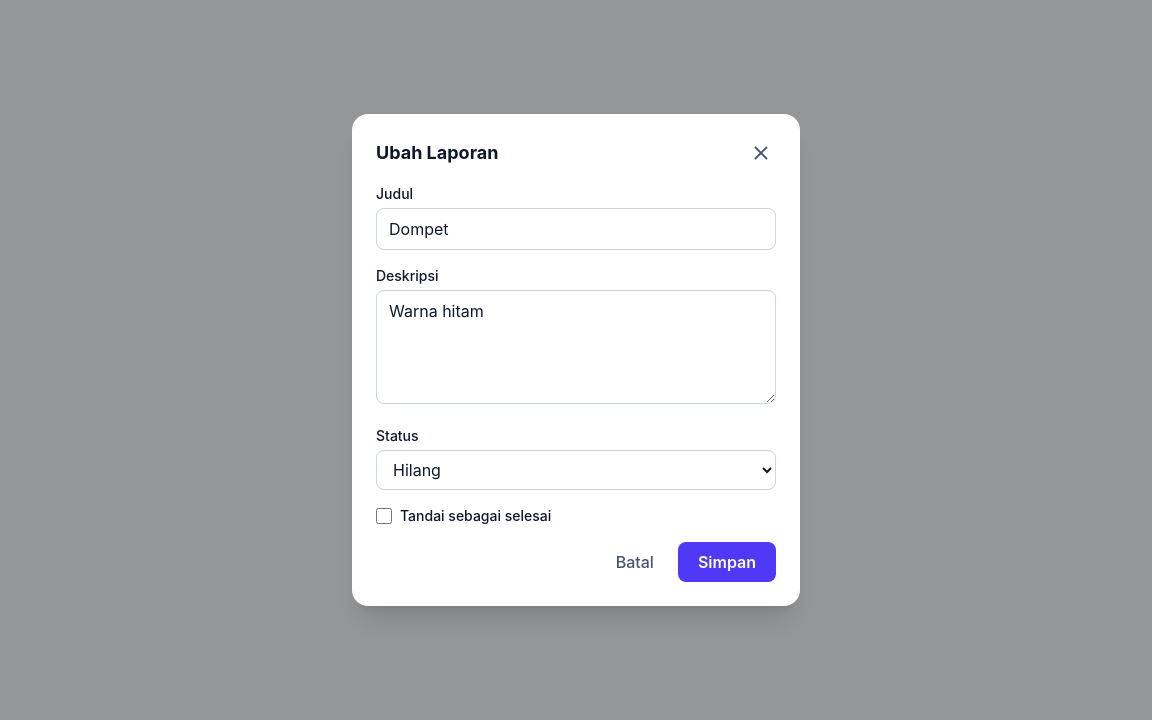
Test: ChangeModal › hanya menampilkan error deskripsi jika hanya deskripsi yang dikosongkan
Clear the text box labelled "Deskripsi": (576, 347) left=376, top=290, right=776, bottom=404
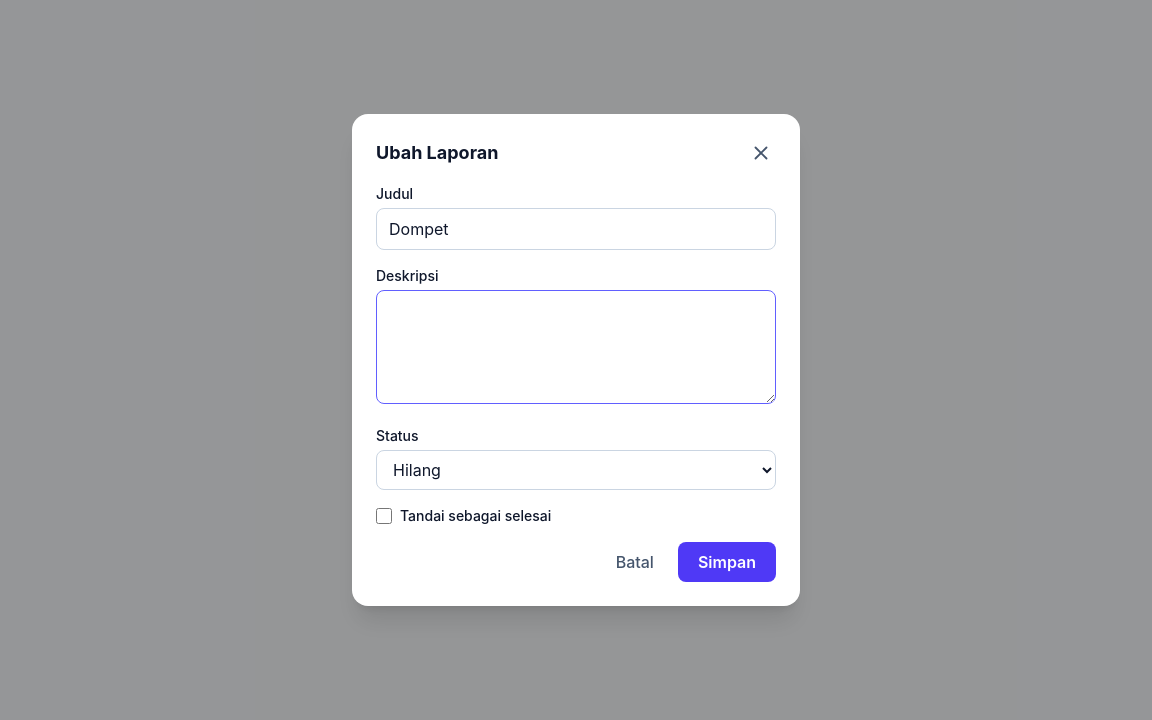
Click the button "Simpan": (727, 562) left=678, top=542, right=776, bottom=582
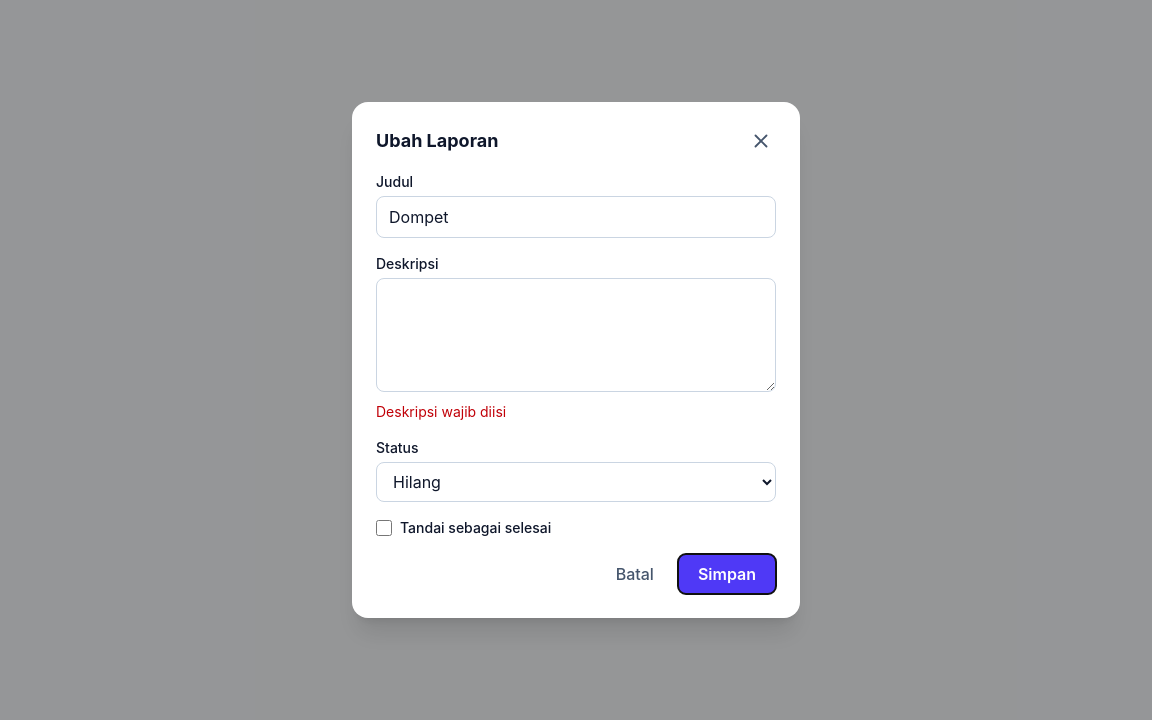
Check: the text "Deskripsi wajib diisi" is shown, box left=376, top=403, right=506, bottom=420
